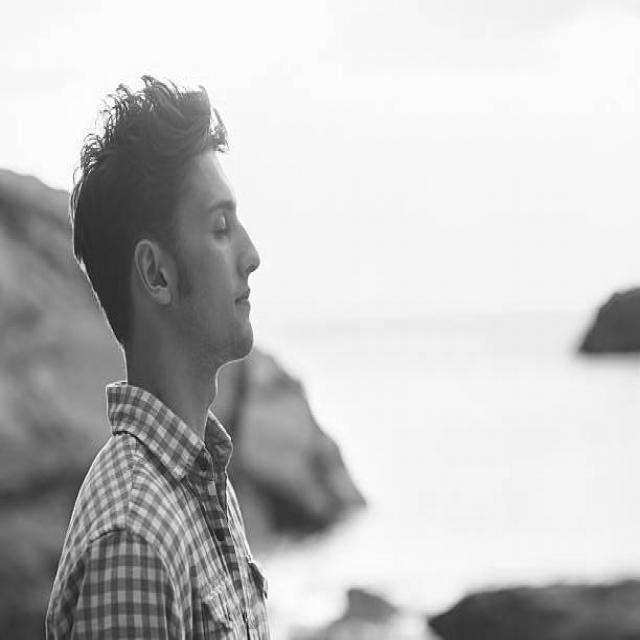real: (71, 86, 262, 364), (202, 194, 236, 244)
